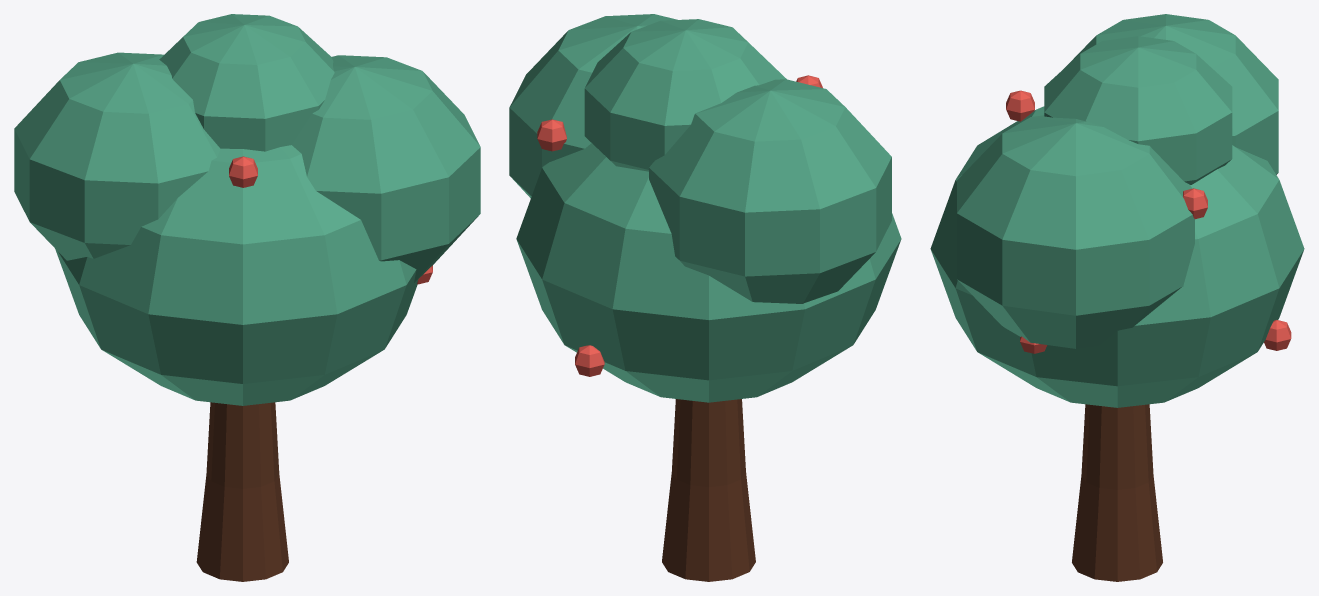
File: ParkParkDecorTree.obj
3 renders of one model, left to right at view 1: azimuth 30°, elevation 25°; view 2: azimuth 150°, elevation 25°; view 3: azimuth 270°, elevation 25°, orthographic. The views are drawn at different scales.
Visible parts, largest first — view 1: ParkParkDecorTree; view 2: ParkParkDecorTree; view 3: ParkParkDecorTree.
Part boxes in pixels (x1,y1,x2,y2): ParkParkDecorTree: (14, 14, 480, 581); ParkParkDecorTree: (509, 14, 901, 581); ParkParkDecorTree: (930, 14, 1304, 581).
Size of the model in its own units: 6.42 by 8.3 by 5.4.
